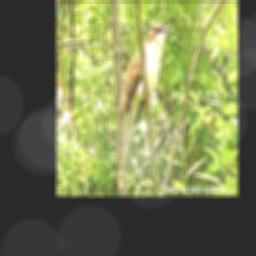Cuckoo: (118, 24, 172, 122)
